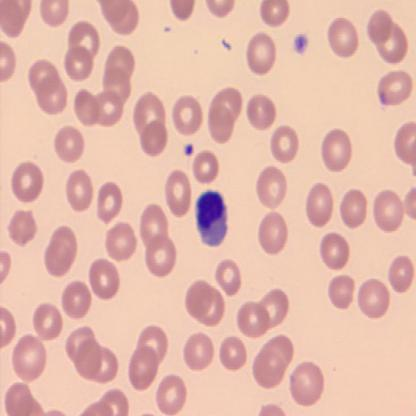NRC: (194, 188, 231, 248)
